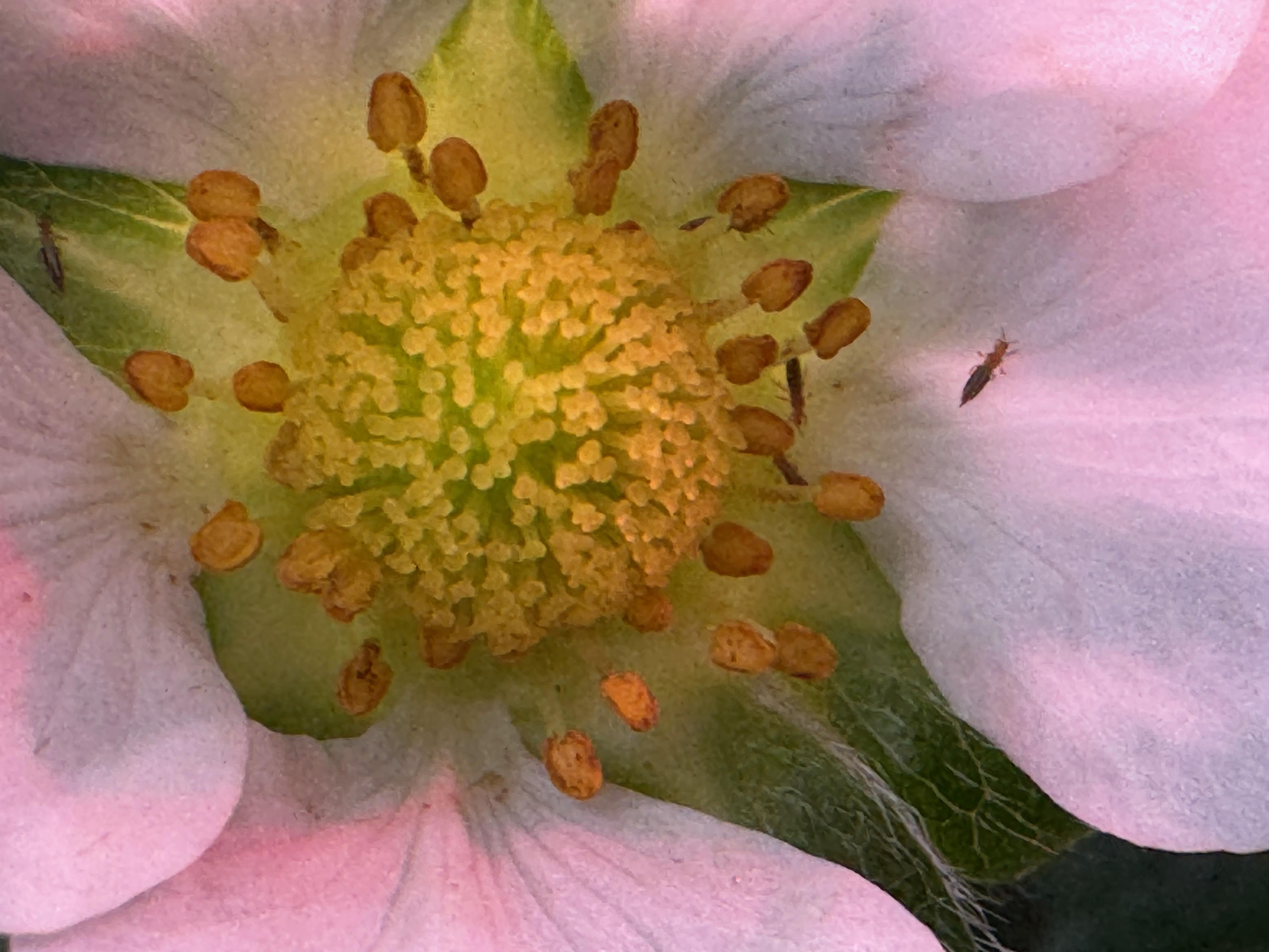tiny_pests: (943, 305, 1035, 417), (762, 342, 839, 444)
